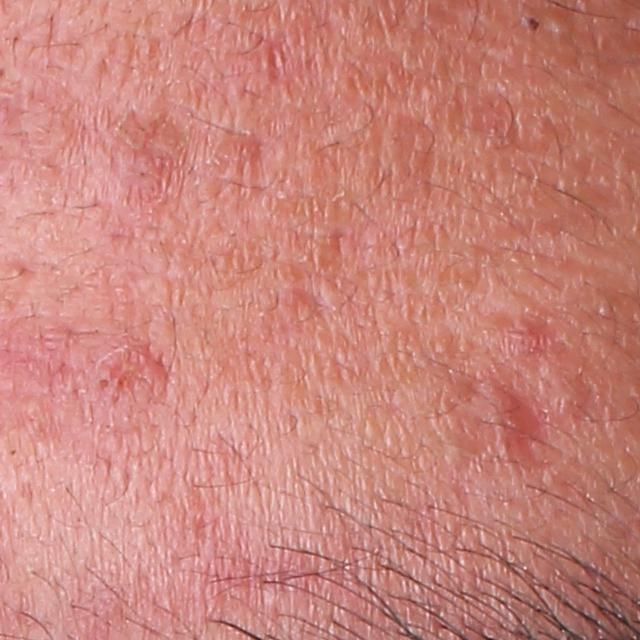comedo: (537, 8, 564, 39), (521, 9, 542, 35)
papule: (82, 346, 172, 426), (462, 381, 536, 448)
